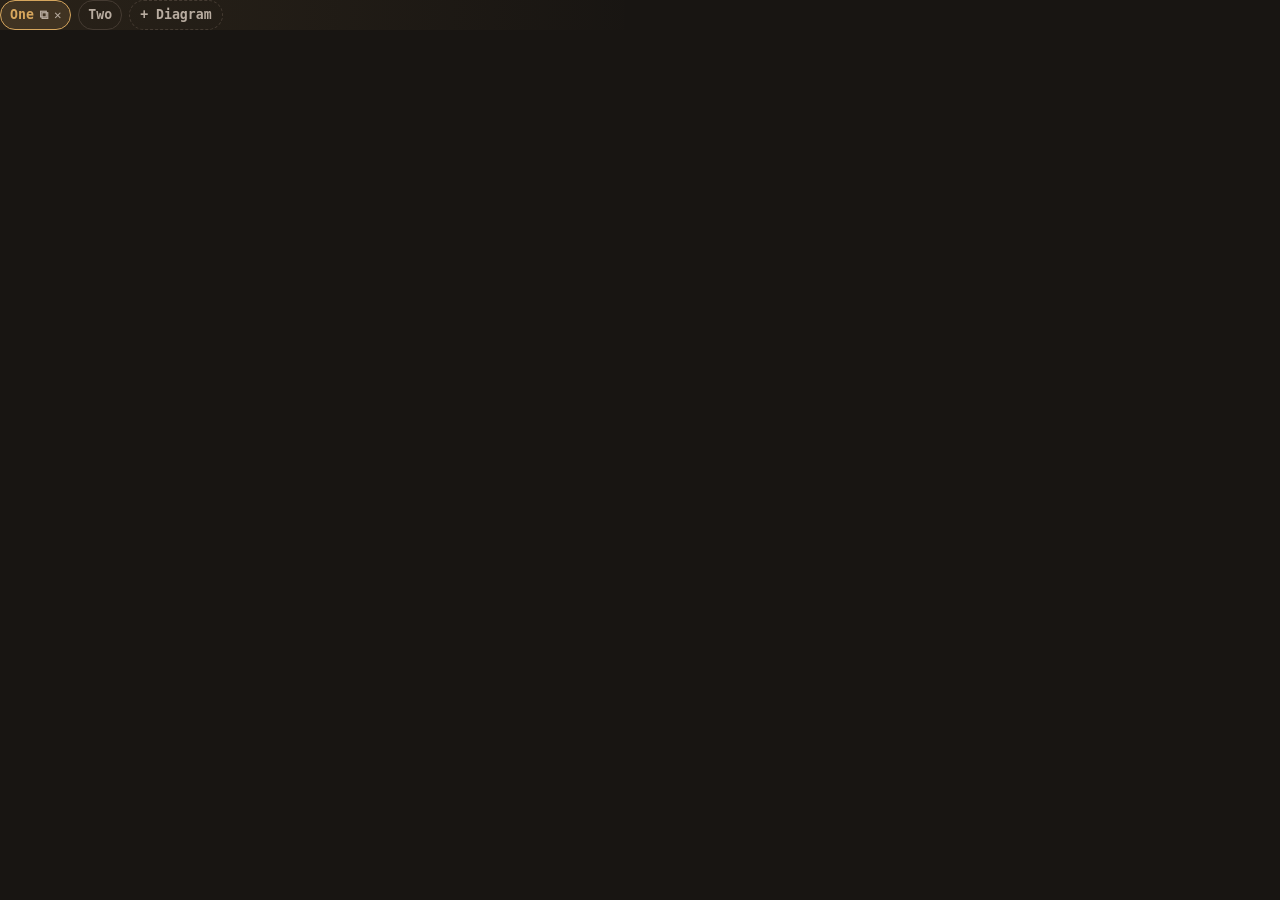
DiagramTabs › moves focus to the next available diagram after deletion
Click the button named "Delete One" at (58, 15), box 54,9 -> 61,21
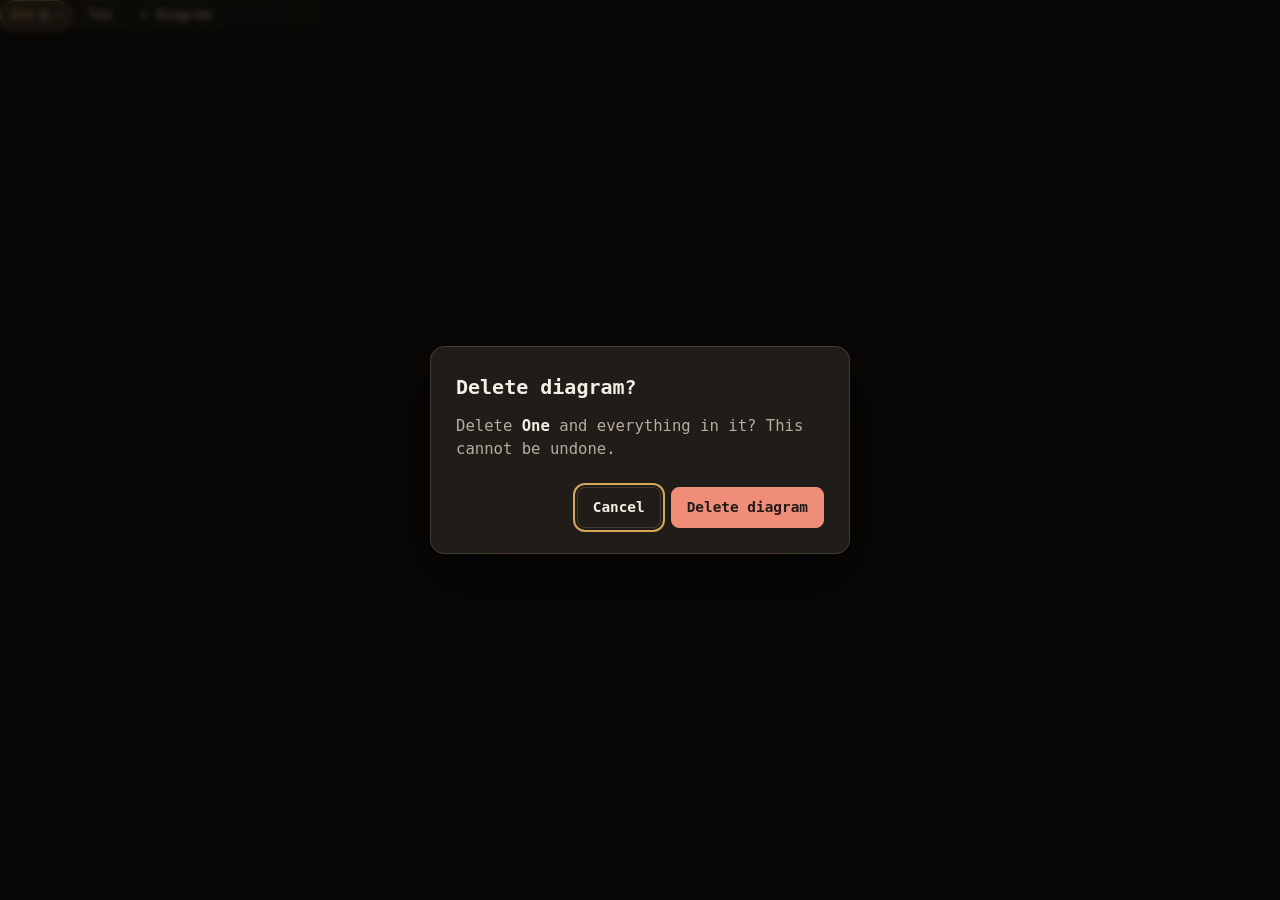
Expected: the dialog "Delete diagram?" shows "One", 522,417 -> 550,435
Click the button "Delete diagram" at (747, 507), box 671,487 -> 824,528
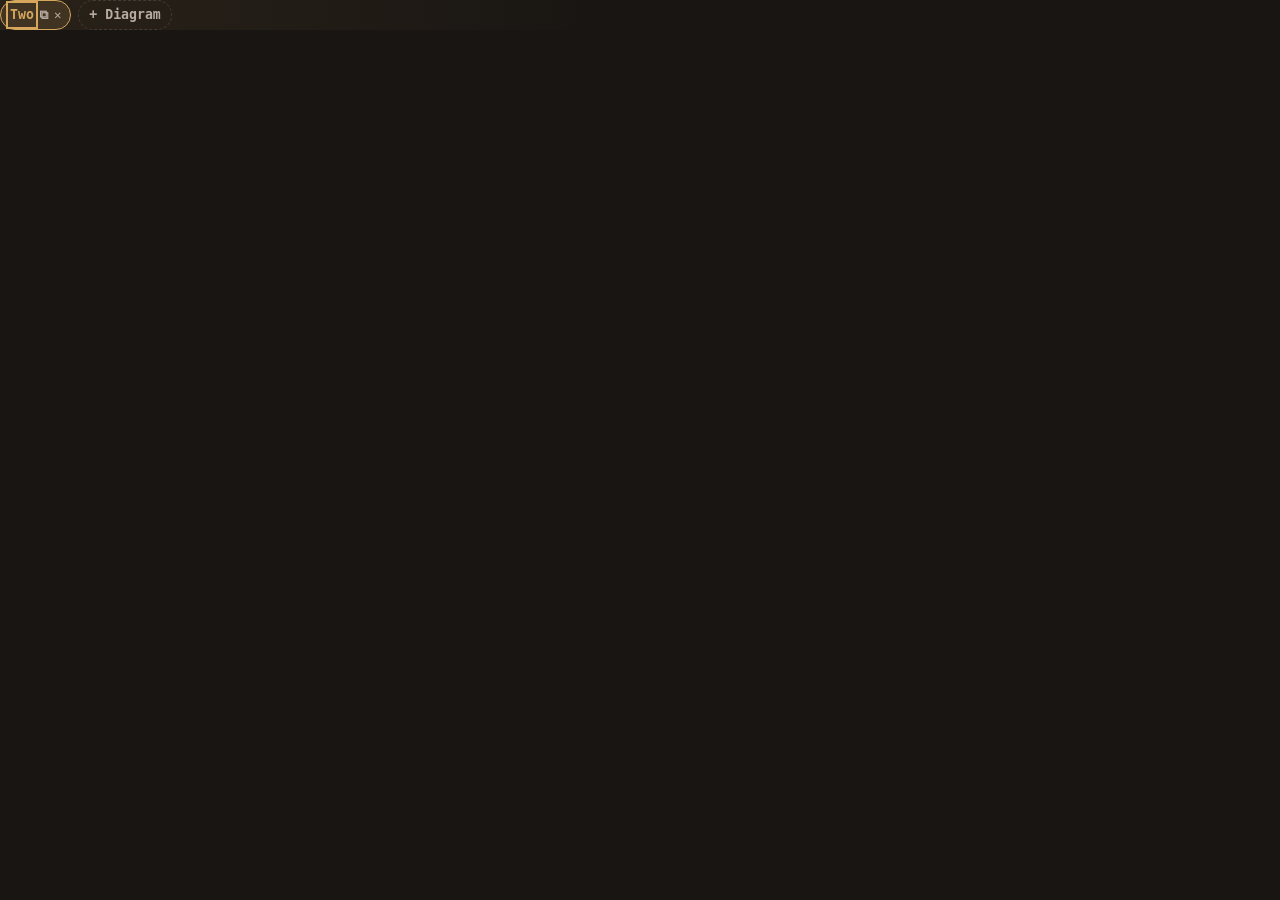
Expected: the dialog is gone
